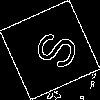S: (25, 25, 80, 73)
